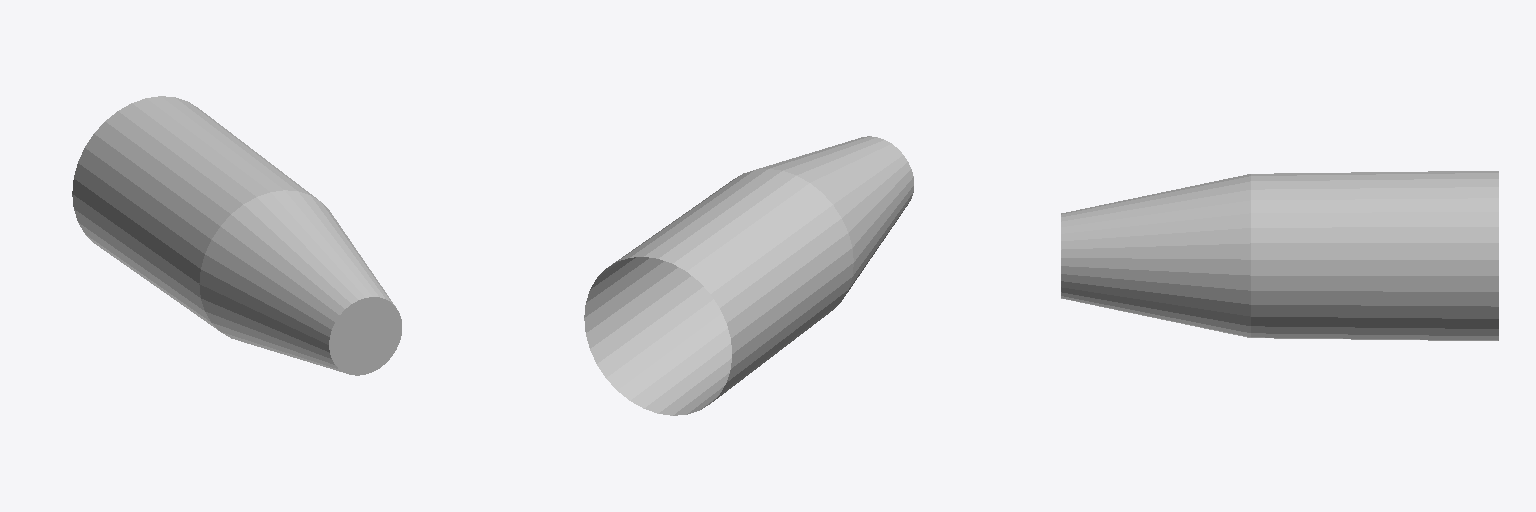
File: ScopeBlack.obj
3 views of the same model, side by side, from view 1: azimuth 30°, elevation 25°; view 2: azimuth 150°, elevation 25°; view 3: azimuth 270°, elevation 25° (orthographic).
Visible parts, largest first — view 1: Cylinder; view 2: Cylinder; view 3: Cylinder.
Part boxes in pixels (left/top/right/bottom): Cylinder: left=72, top=96, right=401, bottom=375; Cylinder: left=584, top=136, right=913, bottom=415; Cylinder: left=1061, top=171, right=1498, bottom=340.
Bounding box in the file's own units: 2.27 × 2.27 × 5.82.